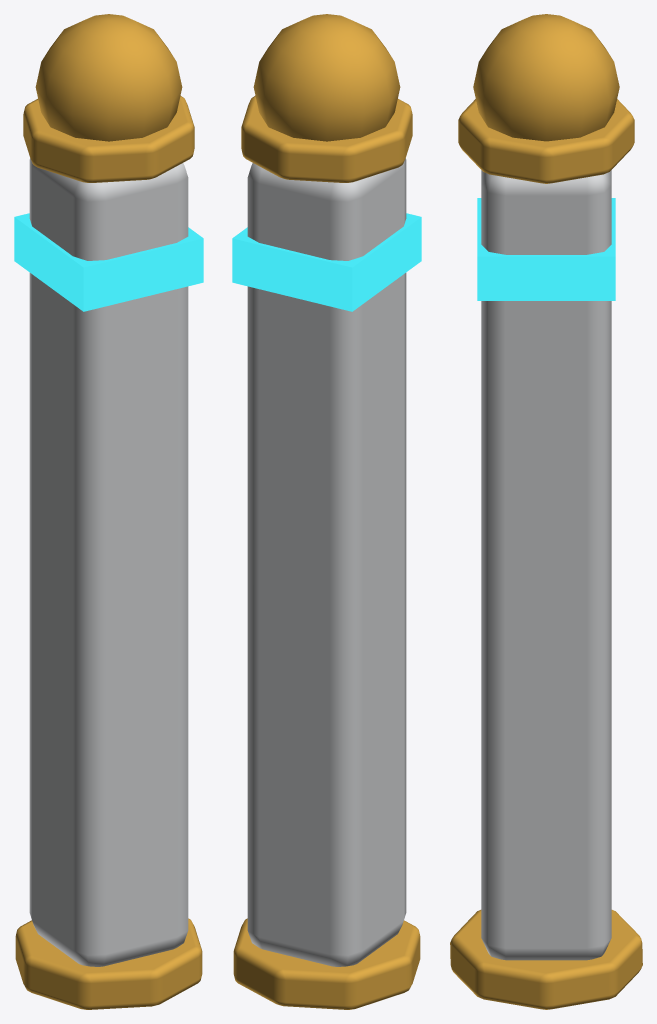
The model's file is railing_post.glb.
The picture shows the model from 3 angles, left to right: view 1: azimuth 30°, elevation 25°; view 2: azimuth 150°, elevation 25°; view 3: azimuth 270°, elevation 25°; orthographic projection.
Parts seen in each view (by area): view 1: railing_post_body; view 2: railing_post_body; view 3: railing_post_body.
Boxes of the visible parts, x1,y1,x2,y2 form: railing_post_body: (14, 14, 203, 1009); railing_post_body: (232, 14, 421, 1009); railing_post_body: (450, 14, 642, 1009).
Bounding box in the file's own units: 0.2368 × 1.29 × 0.2368.
